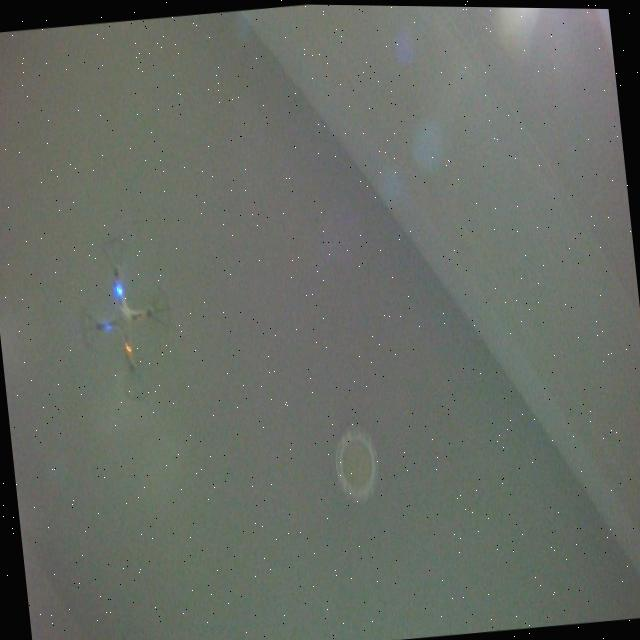drone: (69, 228, 182, 412)
